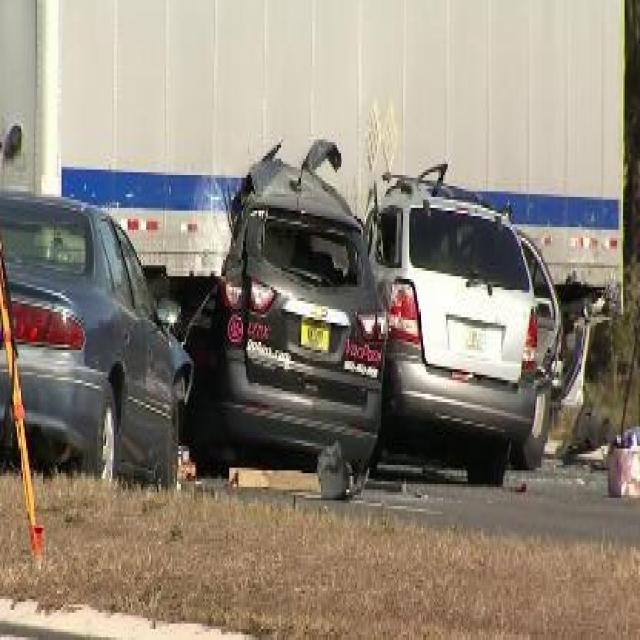accident: (206, 134, 562, 520)
